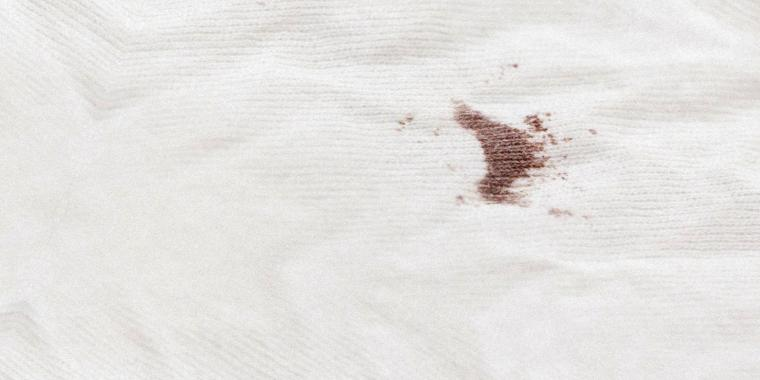stain: (451, 101, 557, 211)
